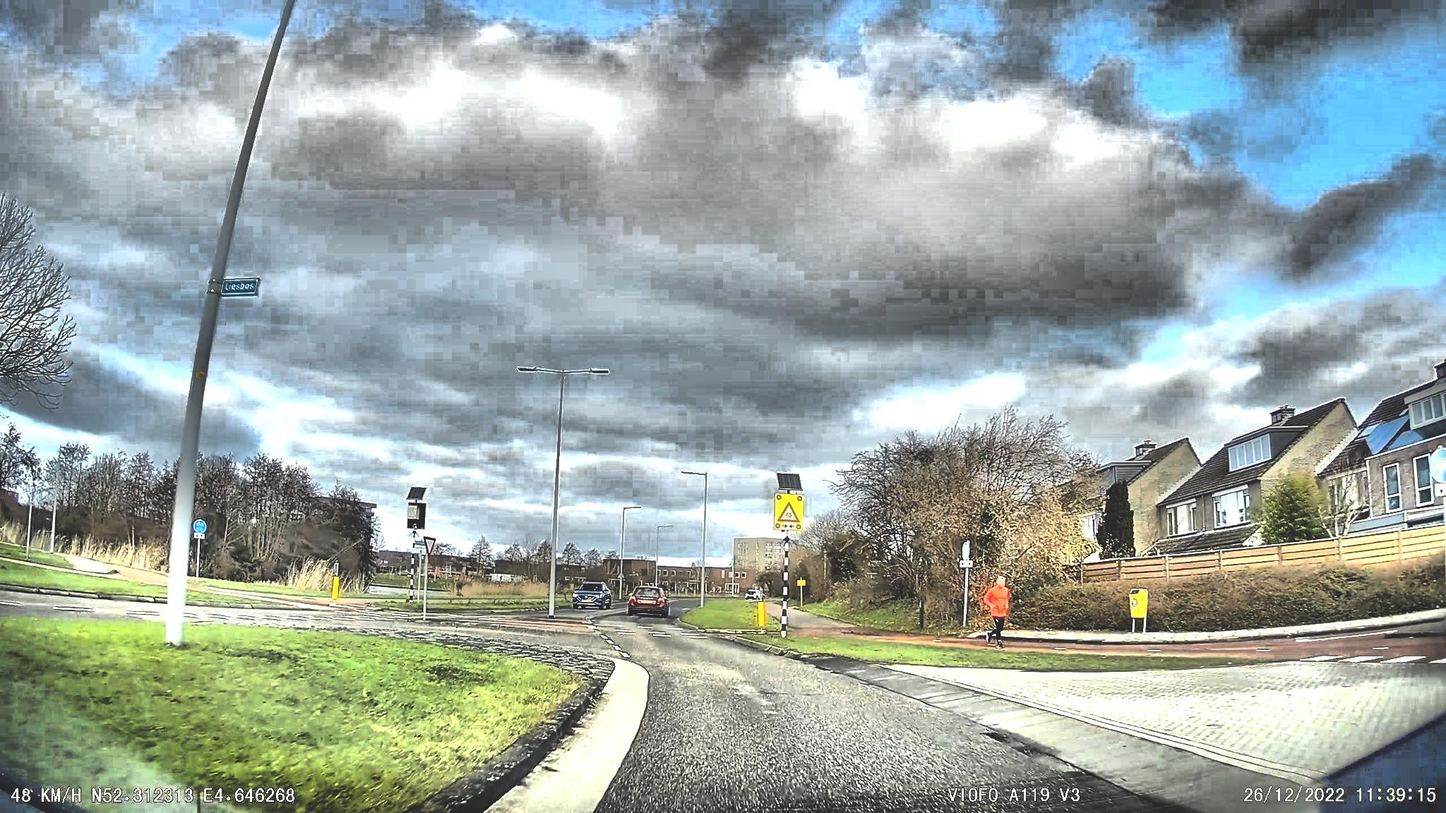Roads: (476, 616, 1446, 813)
